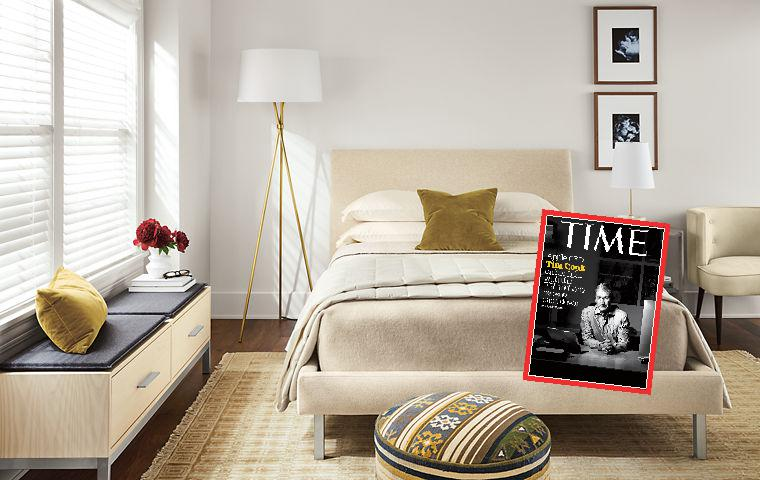times: (520, 207, 674, 396)
